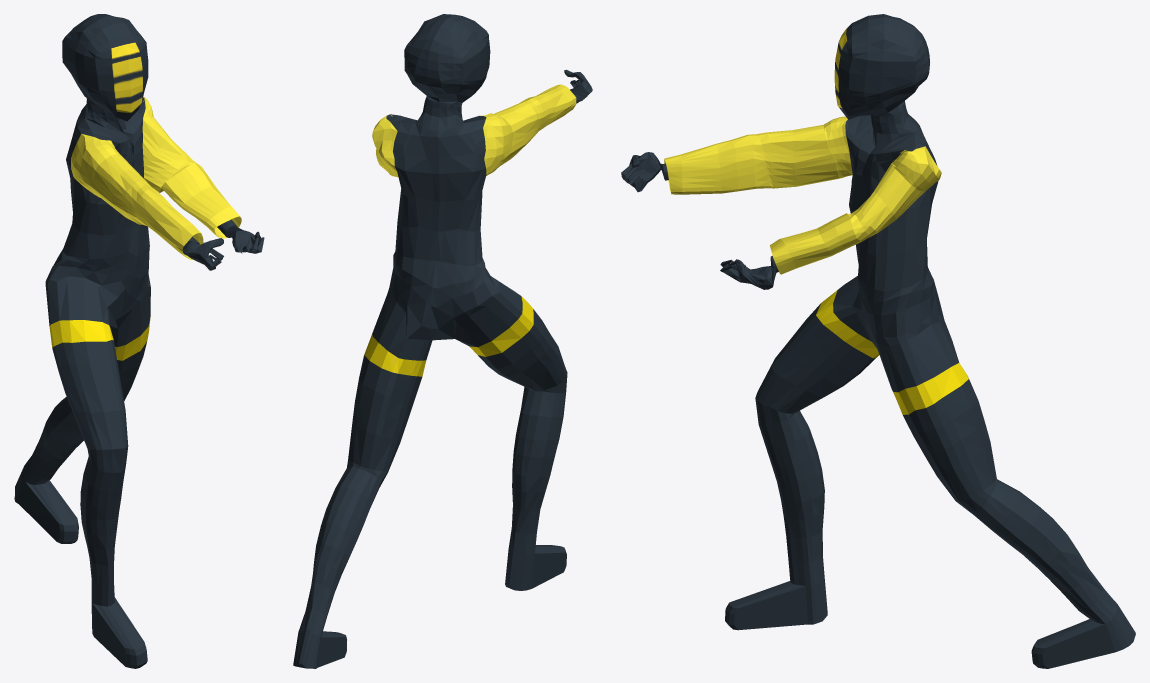
The model's file is Sentry_Attack_000030.obj.
The picture shows the model from 3 angles, left to right: view 1: azimuth 30°, elevation 25°; view 2: azimuth 150°, elevation 25°; view 3: azimuth 270°, elevation 25°; orthographic projection. The views are drawn at different scales.
Visible parts, largest first — view 1: Cube; view 2: Cube; view 3: Cube.
Part boxes in pixels (x1,y1,x2,y2): Cube: (14, 14, 264, 668); Cube: (293, 14, 592, 668); Cube: (621, 14, 1135, 668).
Size of the model in its own units: 1.07 by 3.71 by 2.75.
